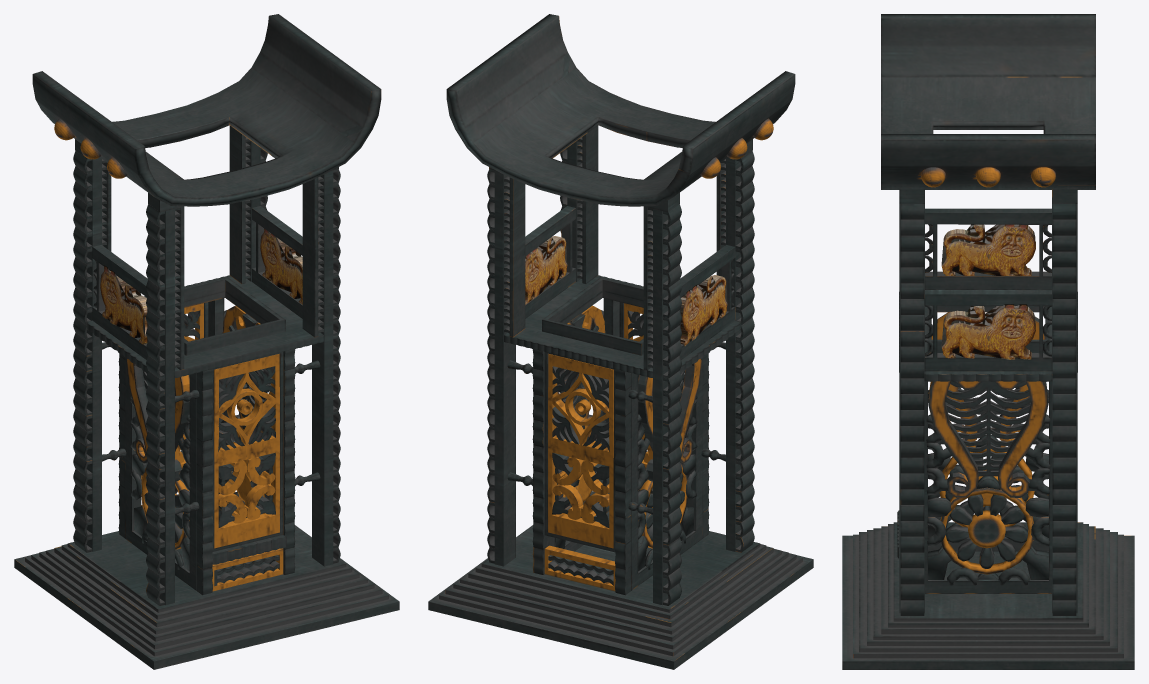
The model's file is Trône_du_roi_Glèlè.fbx.
The picture shows the model from 3 angles, left to right: view 1: azimuth 30°, elevation 25°; view 2: azimuth 150°, elevation 25°; view 3: azimuth 270°, elevation 25°; orthographic projection. The views are drawn at different scales.
Visible parts, largest first — view 1: Siège, Socle, Cube.001, Cube.002, Plane.005, Cube.005, Plane.001, Plane.008, Cube, Lion, Cube.004, Plane.010 (+13 smaller); view 2: Siège, Socle, Cube.001, Cube.002, Plane.005, Cube.005, Plane.001, Plane.008, Cube, Cube.004, Lion, Plane.010 (+13 smaller); view 3: Siège, Socle, Cube.002, Cube, Lion, BezierCurve, BezierCurve.001, Vert.002, Circle.002, Circle.001, Cube.004, Cube.001 (+5 smaller).
Part boxes in pixels (box(x1,y1,x2,y2)): Siège: box(32, 14, 381, 206); Socle: box(14, 525, 399, 669); Cube.001: box(86, 141, 333, 605); Cube.002: box(73, 148, 340, 605); Plane.005: box(118, 302, 295, 595); Cube.005: box(75, 125, 338, 370); Plane.001: box(141, 303, 283, 591); Plane.008: box(86, 275, 323, 377); Cube: box(92, 206, 302, 359); Lion: box(100, 228, 302, 344); Cube.004: box(125, 298, 275, 590); Plane.010: box(146, 277, 285, 355); Siège: box(446, 14, 795, 206); Socle: box(428, 525, 813, 669); Cube.001: box(494, 141, 741, 605); Cube.002: box(487, 148, 754, 605); Plane.005: box(532, 302, 709, 595); Cube.005: box(489, 125, 752, 370); Plane.001: box(544, 303, 647, 591); Plane.008: box(504, 275, 741, 377); Cube: box(525, 206, 735, 359); Cube.004: box(549, 298, 702, 590); Lion: box(525, 236, 727, 346); Plane.010: box(542, 277, 643, 355); Siège: box(881, 14, 1095, 189); Socle: box(842, 522, 1134, 669); Cube.002: box(900, 204, 1076, 615); Cube: box(924, 208, 1052, 371); Lion: box(941, 224, 1035, 359); BezierCurve: box(928, 312, 1048, 497); BezierCurve.001: box(926, 389, 1050, 585); Vert.002: box(945, 381, 1031, 476); Circle.002: box(945, 457, 1028, 568); Circle.001: box(939, 445, 1034, 574); Cube.004: box(925, 381, 1051, 593); Cube.001: box(899, 204, 1077, 613).
Size of the model in its own units: 217 by 422 by 210.
2 materials, 2 textured.
